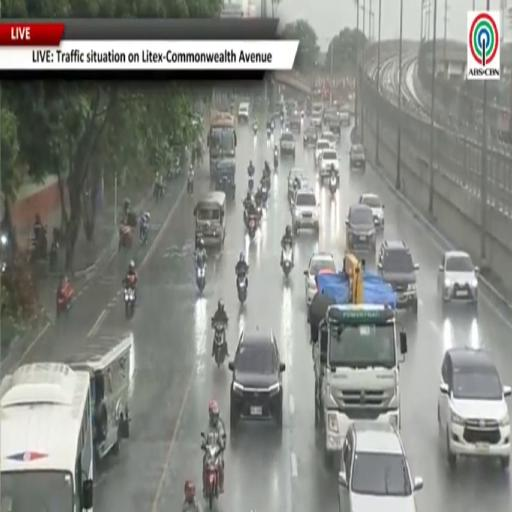bus: (0, 363, 93, 511)
car: (438, 347, 511, 470), (338, 421, 423, 511), (229, 330, 285, 430), (378, 240, 419, 316), (438, 251, 479, 311), (304, 252, 335, 306), (346, 204, 375, 251), (292, 188, 319, 233), (360, 194, 384, 229), (318, 148, 340, 180), (288, 168, 306, 200), (349, 144, 365, 171), (324, 108, 340, 134), (280, 132, 295, 157), (315, 139, 329, 165), (303, 126, 317, 147), (289, 114, 301, 134), (238, 102, 250, 122), (322, 132, 336, 149), (286, 100, 298, 116), (311, 112, 322, 129), (339, 110, 350, 125), (312, 102, 323, 115)
jeepney: (66, 332, 134, 460), (207, 112, 236, 178), (194, 191, 226, 248), (216, 159, 235, 199)
motorcycle: (201, 432, 221, 509), (212, 319, 227, 366), (30, 227, 47, 262), (57, 282, 73, 317), (282, 245, 293, 277), (119, 224, 133, 249), (237, 272, 248, 303), (247, 212, 259, 240), (125, 286, 135, 319), (49, 240, 59, 271), (196, 260, 205, 293), (140, 220, 148, 246), (329, 175, 337, 199), (154, 183, 164, 201), (261, 184, 267, 206), (188, 174, 193, 195), (248, 176, 254, 191), (274, 151, 278, 172), (248, 167, 255, 177), (266, 127, 271, 140), (253, 122, 257, 135), (271, 120, 275, 132), (280, 115, 284, 125)
truck: (312, 253, 407, 467), (207, 112, 236, 179)
